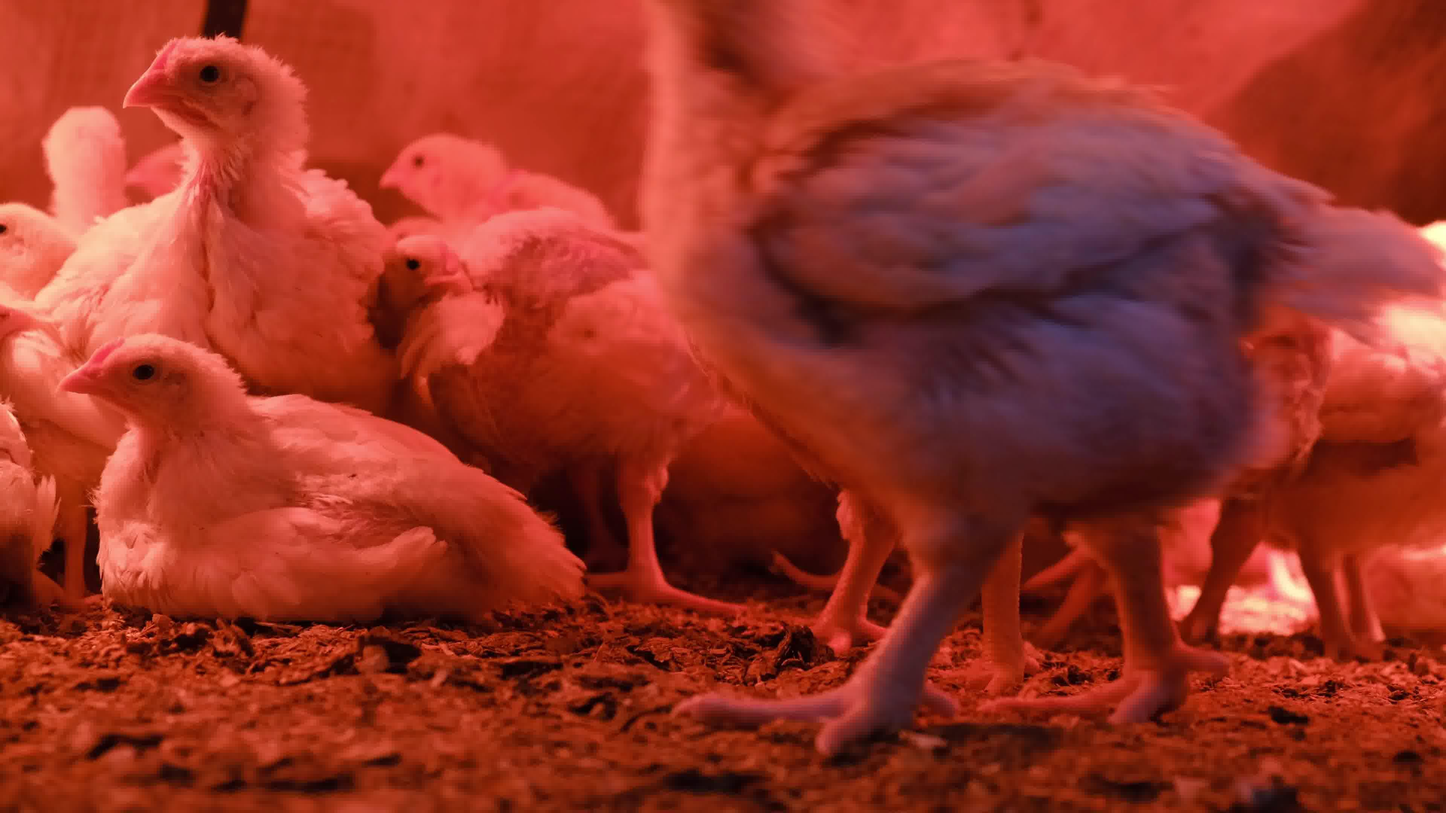AbNormal: (66, 333, 648, 651), (8, 277, 105, 625)
Normal: (606, 4, 1265, 747), (439, 179, 778, 600), (1216, 152, 1446, 642), (363, 128, 618, 233), (377, 224, 548, 367), (96, 126, 254, 258), (34, 85, 147, 239), (0, 151, 79, 322)
